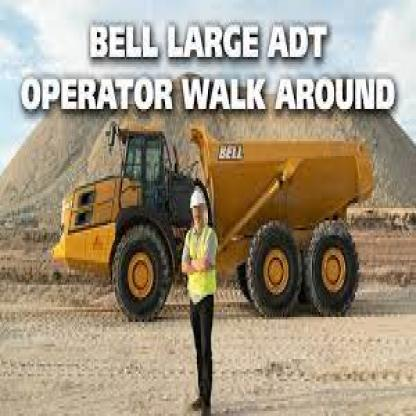dump_truck: (55, 94, 382, 332)
person: (179, 178, 234, 414)
